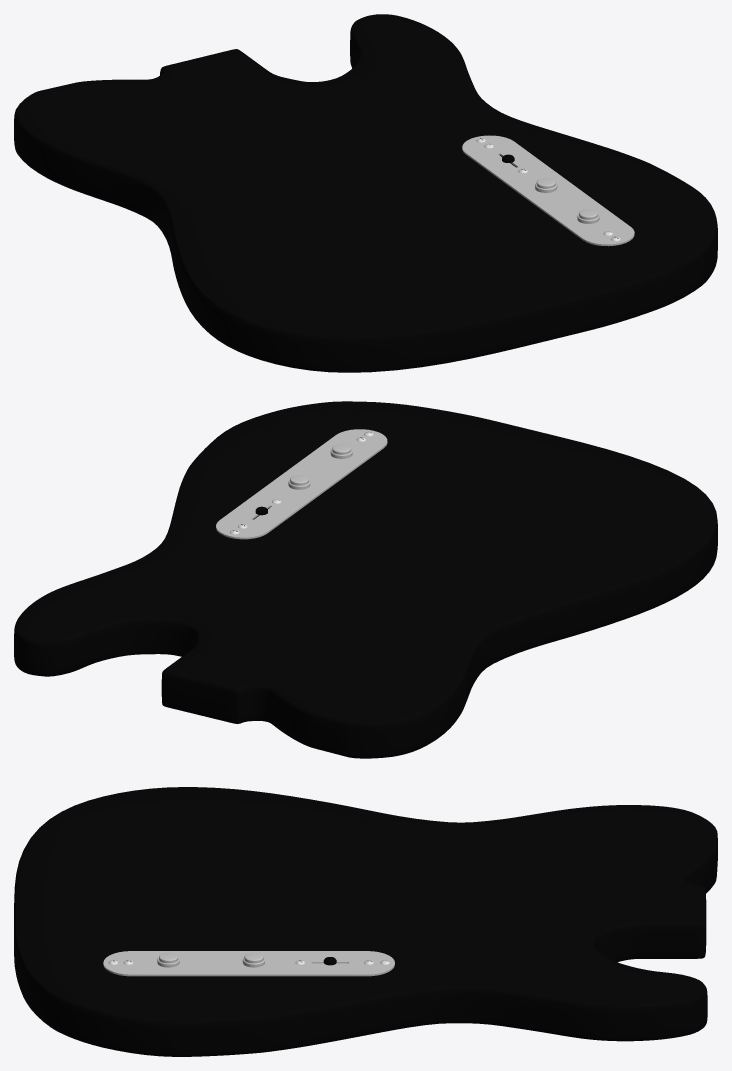
The model's file is Telecaster_Alder.glb.
3 views of the same model, one above another, from view 1: azimuth 30°, elevation 25°; view 2: azimuth 150°, elevation 25°; view 3: azimuth 270°, elevation 25° (orthographic).
Parts seen in each view (by area): view 1: Telecaster_Alder; view 2: Telecaster_Alder; view 3: Telecaster_Alder.
Boxes of the visible parts, x1,y1,x2,y2 form: Telecaster_Alder: (14, 14, 717, 372); Telecaster_Alder: (14, 401, 717, 758); Telecaster_Alder: (14, 787, 717, 1056).
Bounding box in the file's own units: 1.84 × 0.1662 × 2.32.
Materials: 4 (1 with a texture image).
